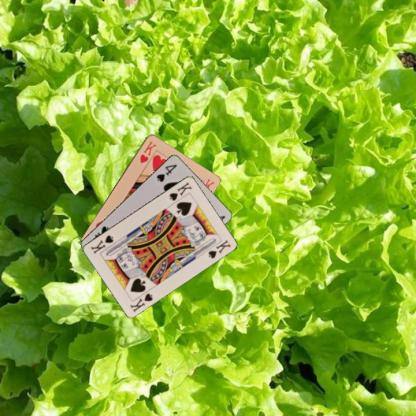4s: (153, 161, 178, 183)
Kh: (137, 138, 158, 164)
Ks: (166, 178, 193, 202), (127, 290, 154, 313)
